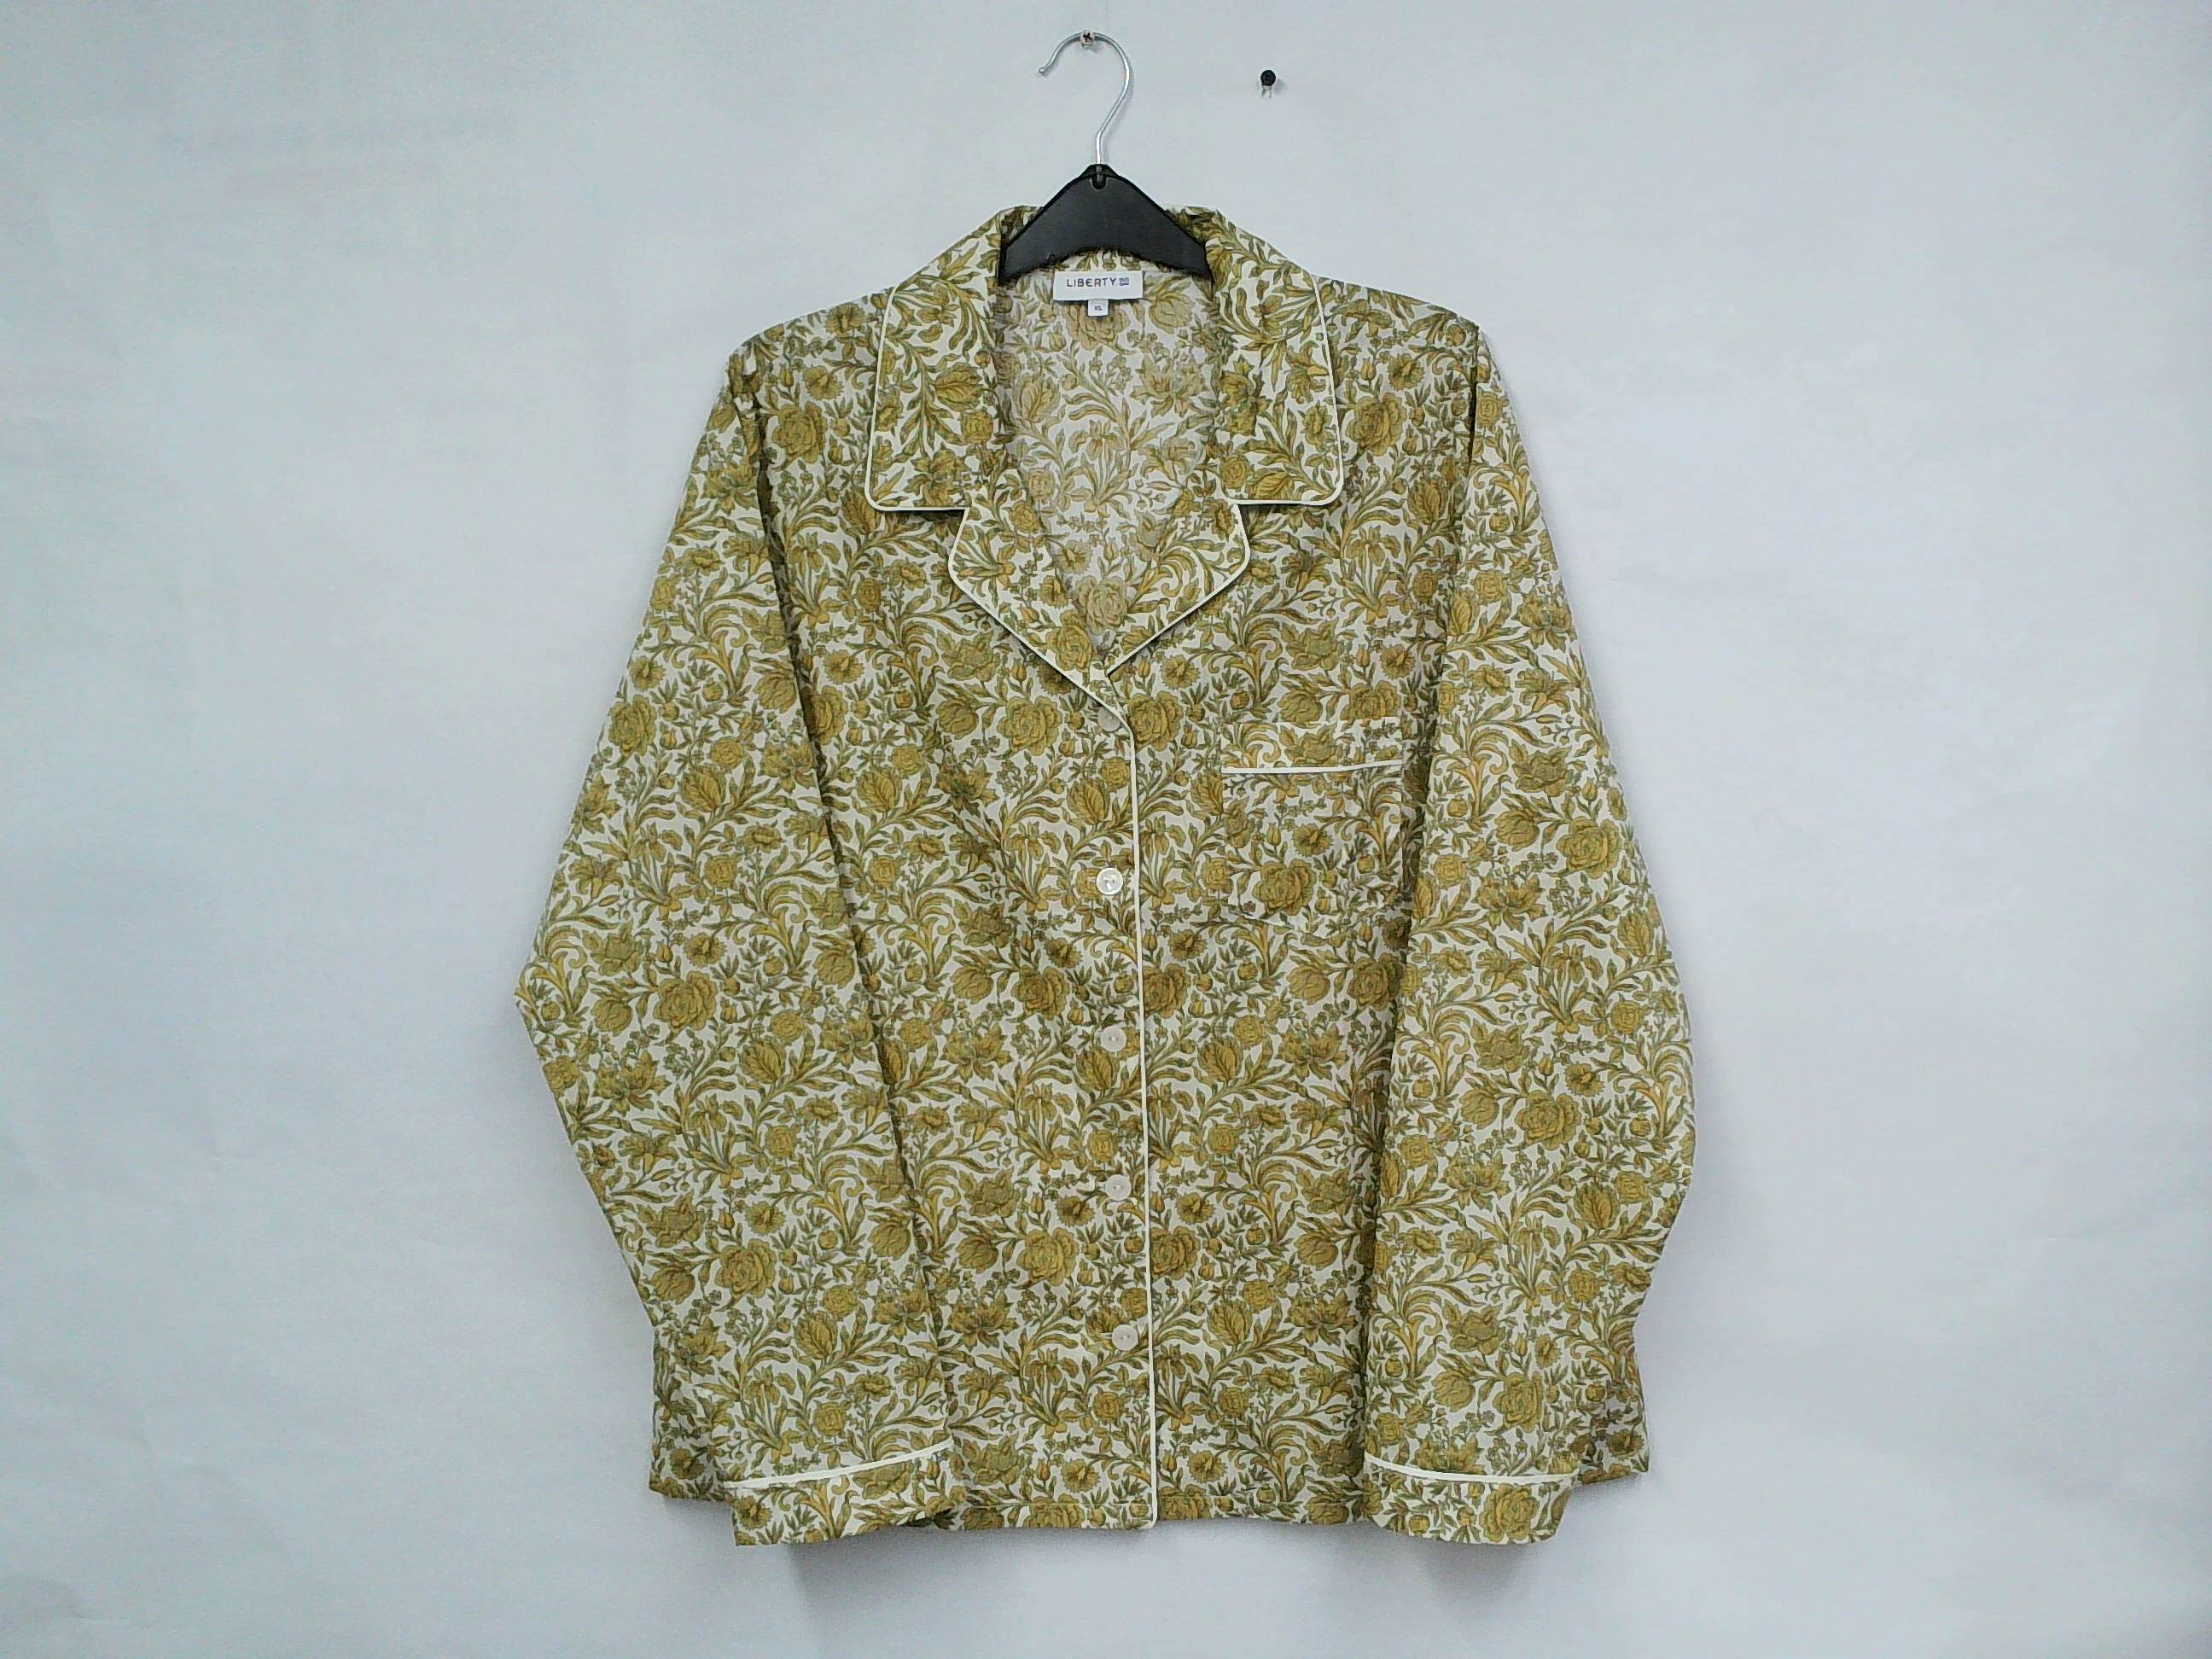seam: (714, 1425, 960, 1513)
